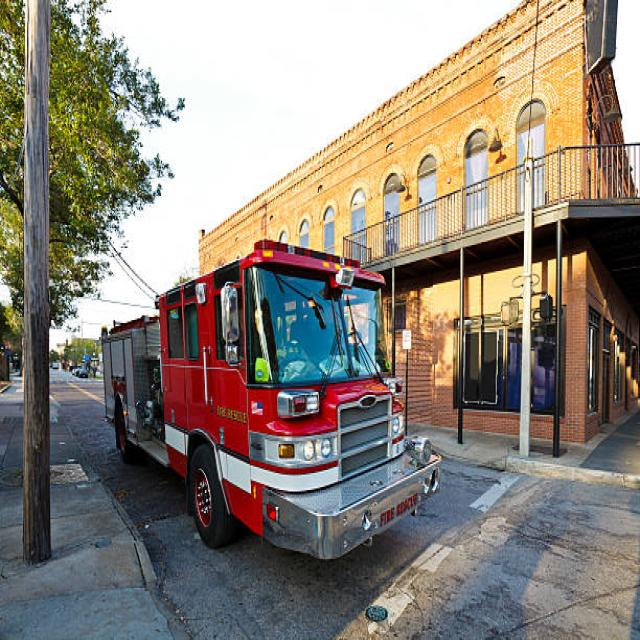emergency: (102, 242, 441, 557)
